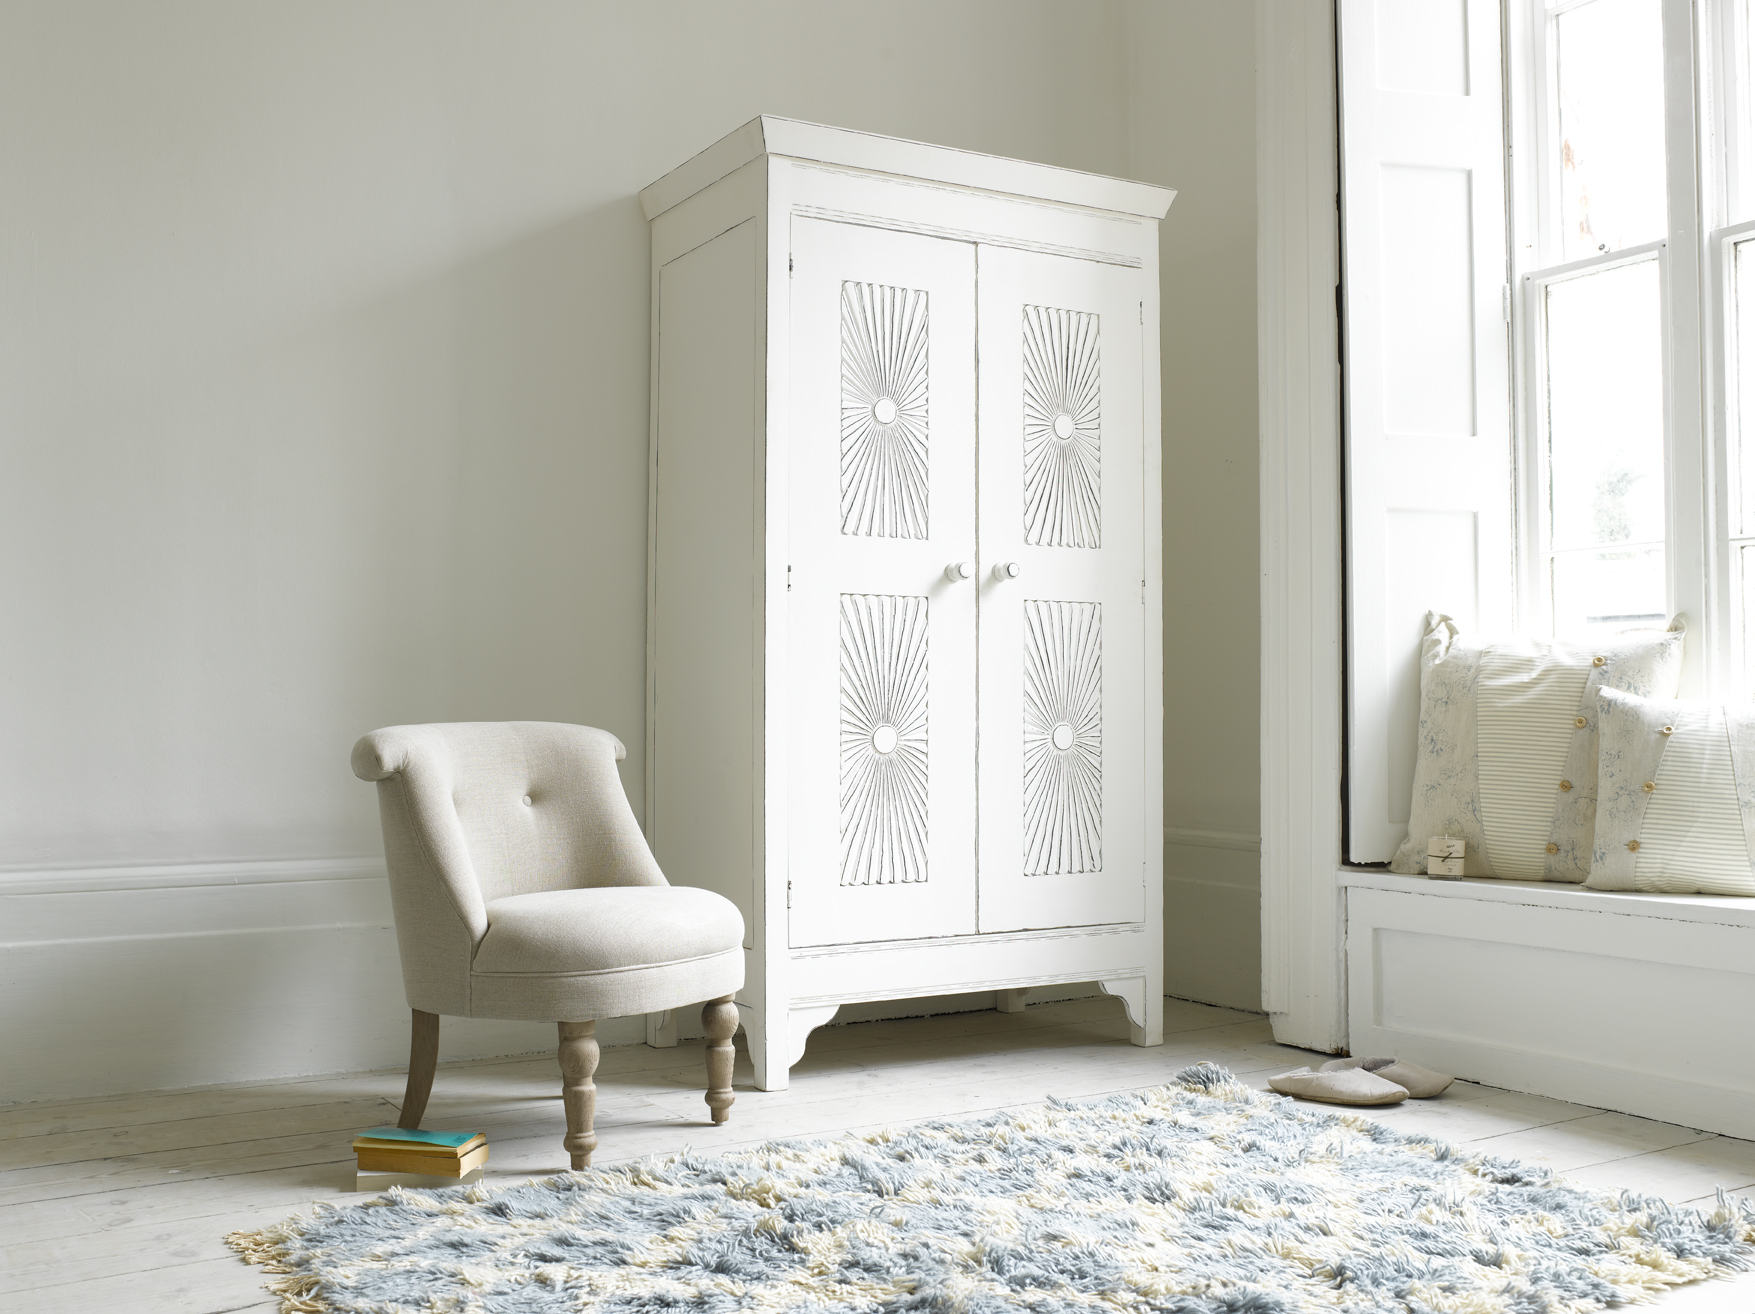chairs: (321, 689, 757, 1177)
